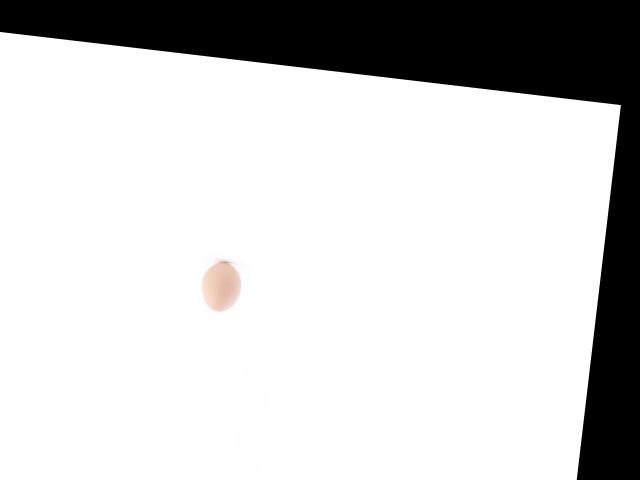egg: (199, 260, 244, 314)
